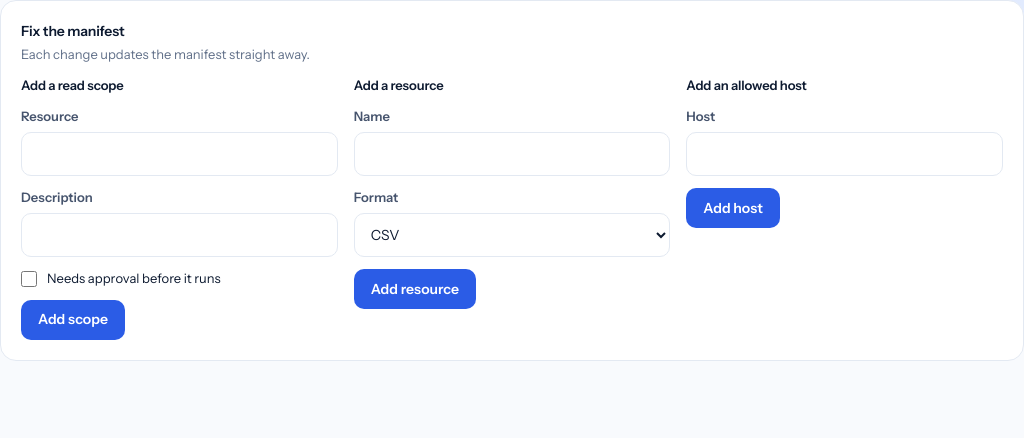
adds an allowed host, confirms it and clears the field
Type " api.example.com " into the field labelled "Host".
click(845, 154); type(" api.example.com ")  # box [686,132,1003,176]
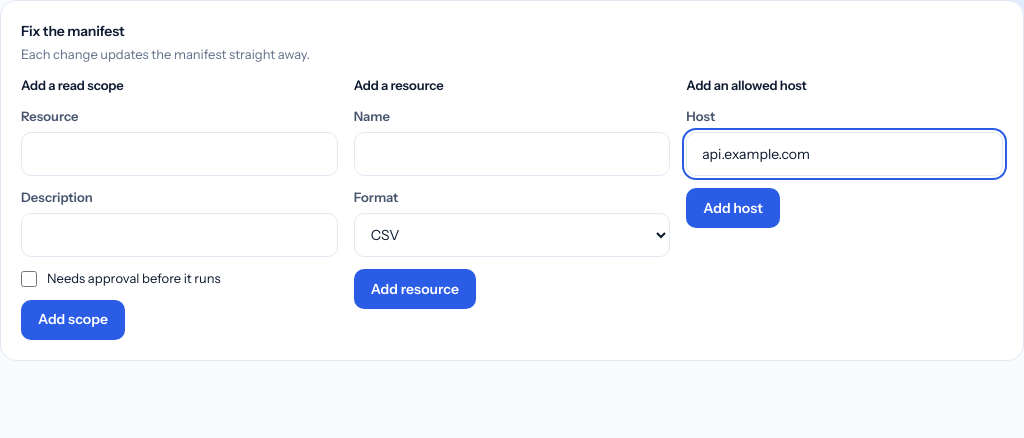
Click the button "Add host".
click(733, 208)  # box [686,188,780,228]
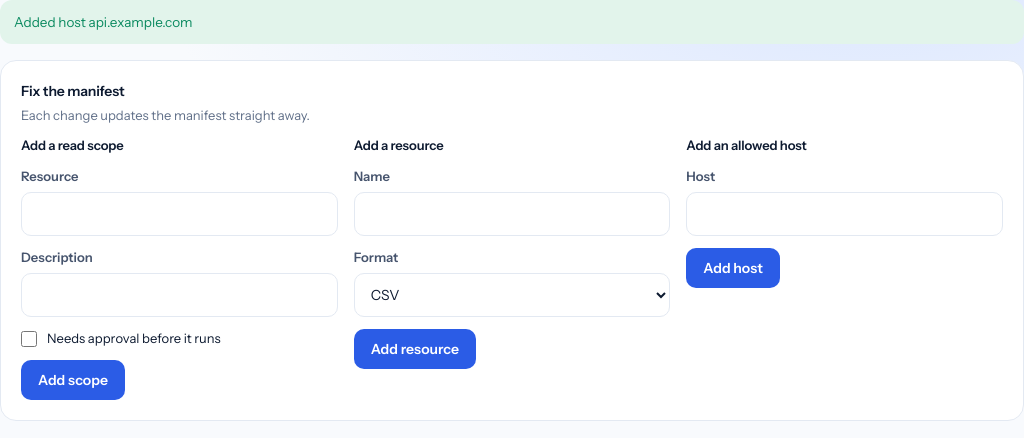
expect the message reads "Added host api.example.com": met, box [14,14,192,30]
expect the field labelled "Host" is empty: met, box [686,192,1003,236]
